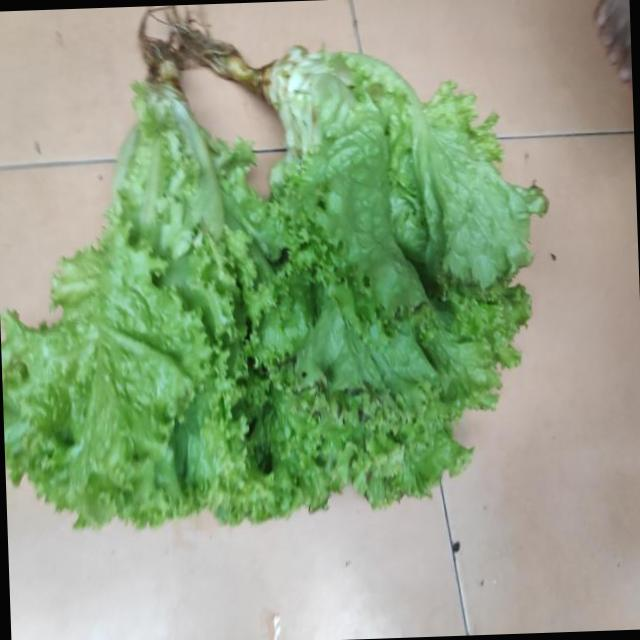Lettuce-Ready-to-Harvest: (1, 82, 325, 526), (243, 48, 546, 507)
